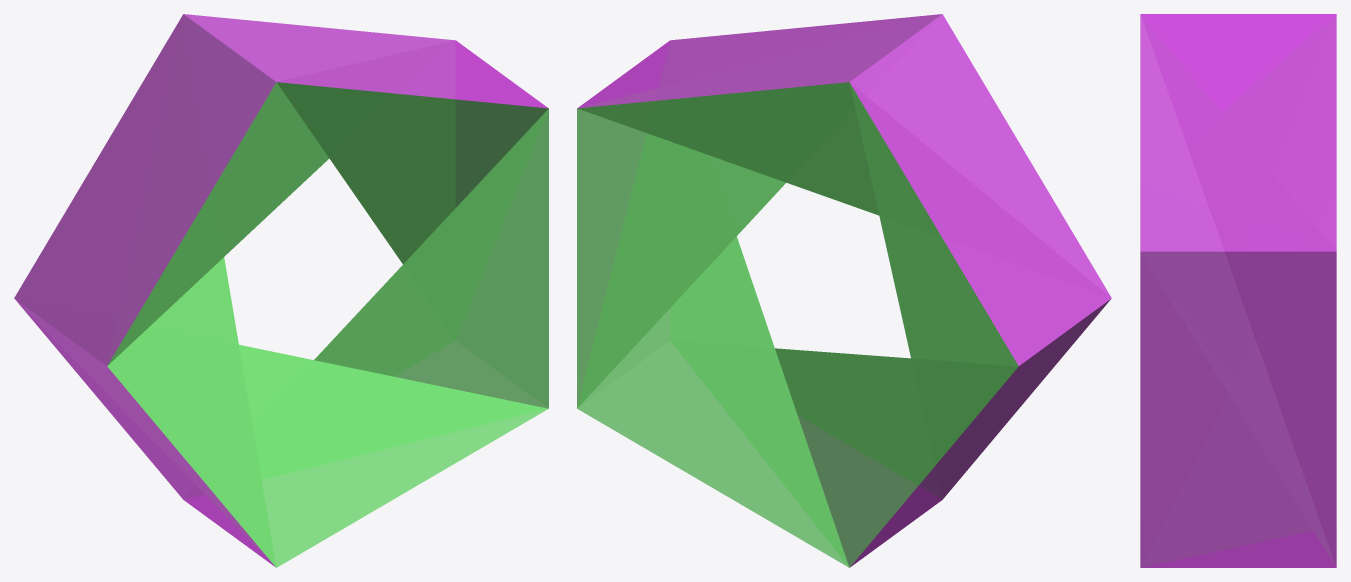
Rendered from PentagonalIrisToroid.obj.
The picture shows the model from 3 angles, left to right: view 1: azimuth 30°, elevation 25°; view 2: azimuth 150°, elevation 25°; view 3: azimuth 270°, elevation 25°; orthographic projection. The views are drawn at different scales.
Bounding box in the file's own units: 2.74 × 2.88 × 1.
